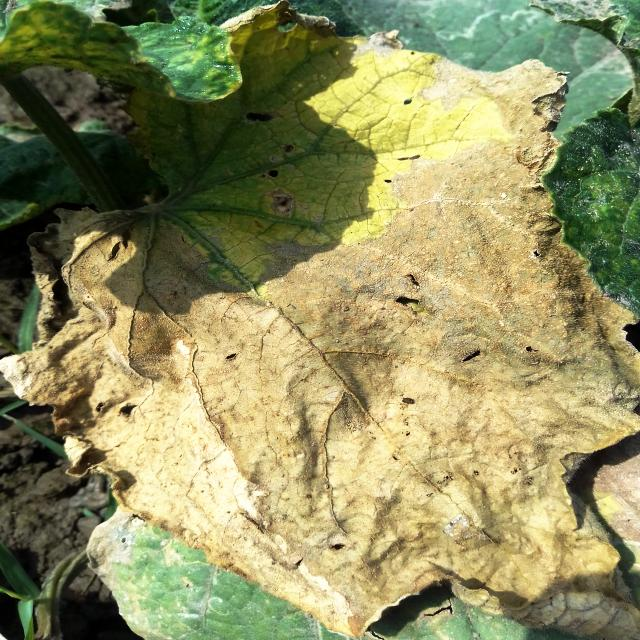Gummy-Stem-Blight: (0, 50, 640, 640)
